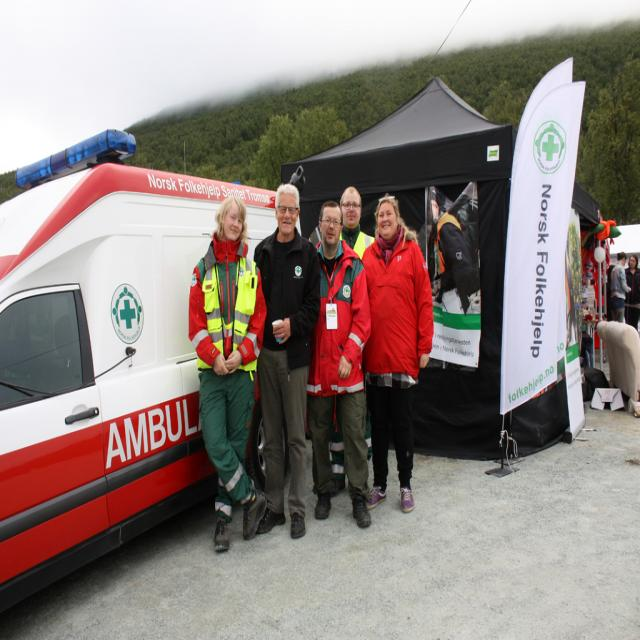Ambulance: (0, 125, 300, 621)
